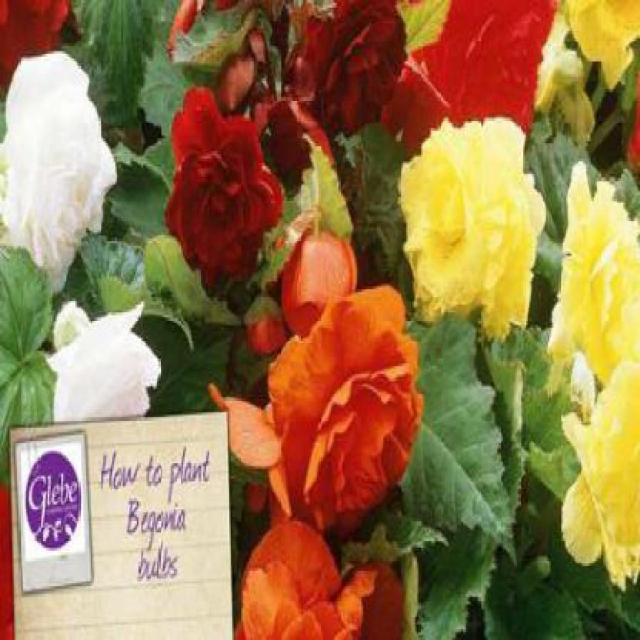Flower: (266, 285, 426, 540), (398, 115, 547, 343), (1, 49, 117, 298), (165, 85, 281, 289), (287, 3, 408, 139), (48, 300, 160, 420)
